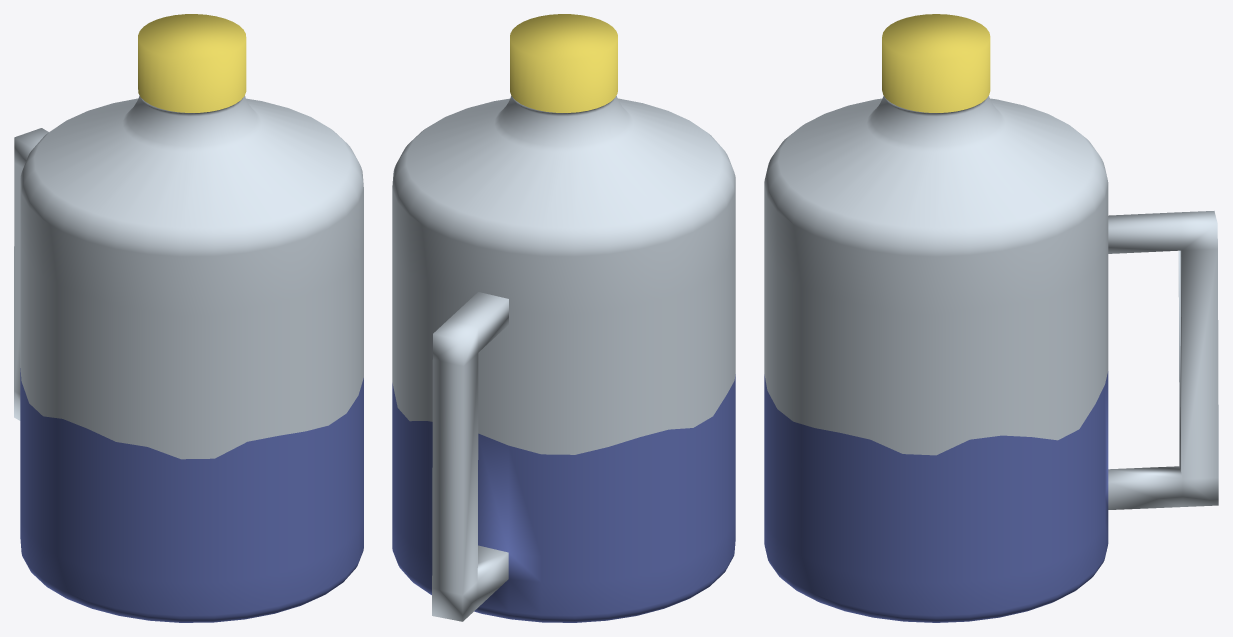
The model's file is eau.gltf.
3 views of the same model, side by side, from view 1: azimuth 30°, elevation 25°; view 2: azimuth 150°, elevation 25°; view 3: azimuth 270°, elevation 25° (orthographic).
Visible parts, largest first — view 1: Cube.002; view 2: Cube.002; view 3: Cube.002.
Boxes of the visible parts, <box> form: Cube.002: <box>14,14,363,622</box>; Cube.002: <box>392,14,735,622</box>; Cube.002: <box>764,14,1218,622</box>.
Size of the model in its own units: 1.46 by 2.42 by 1.92.
